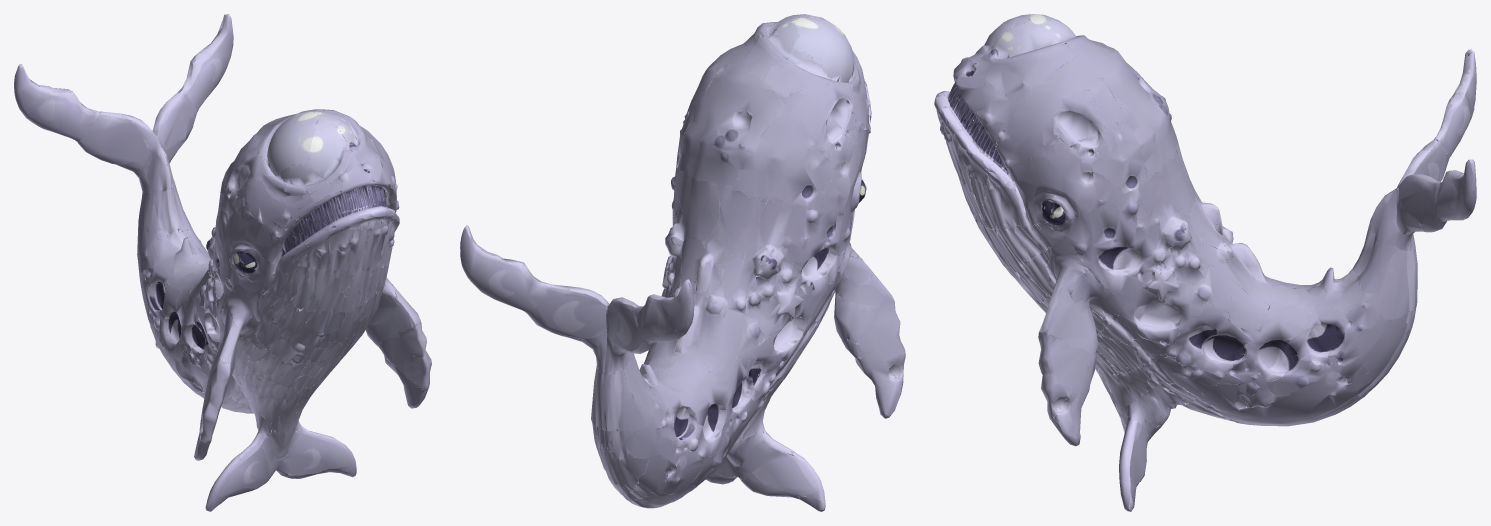
3 renders of one model, left to right at view 1: azimuth 30°, elevation 25°; view 2: azimuth 150°, elevation 25°; view 3: azimuth 270°, elevation 25°, orthographic. The views are drawn at different scales.
Visible parts, largest first — view 1: Mesh_0; view 2: Mesh_0; view 3: Mesh_0.
Part boxes in pixels (left/top/right/bottom): Mesh_0: left=14, top=14, right=431, bottom=511; Mesh_0: left=460, top=14, right=905, bottom=511; Mesh_0: left=934, top=14, right=1476, bottom=511.
Bounding box in the file's own units: 1.01 × 1.74 × 1.9.
1 material, 1 textured.
